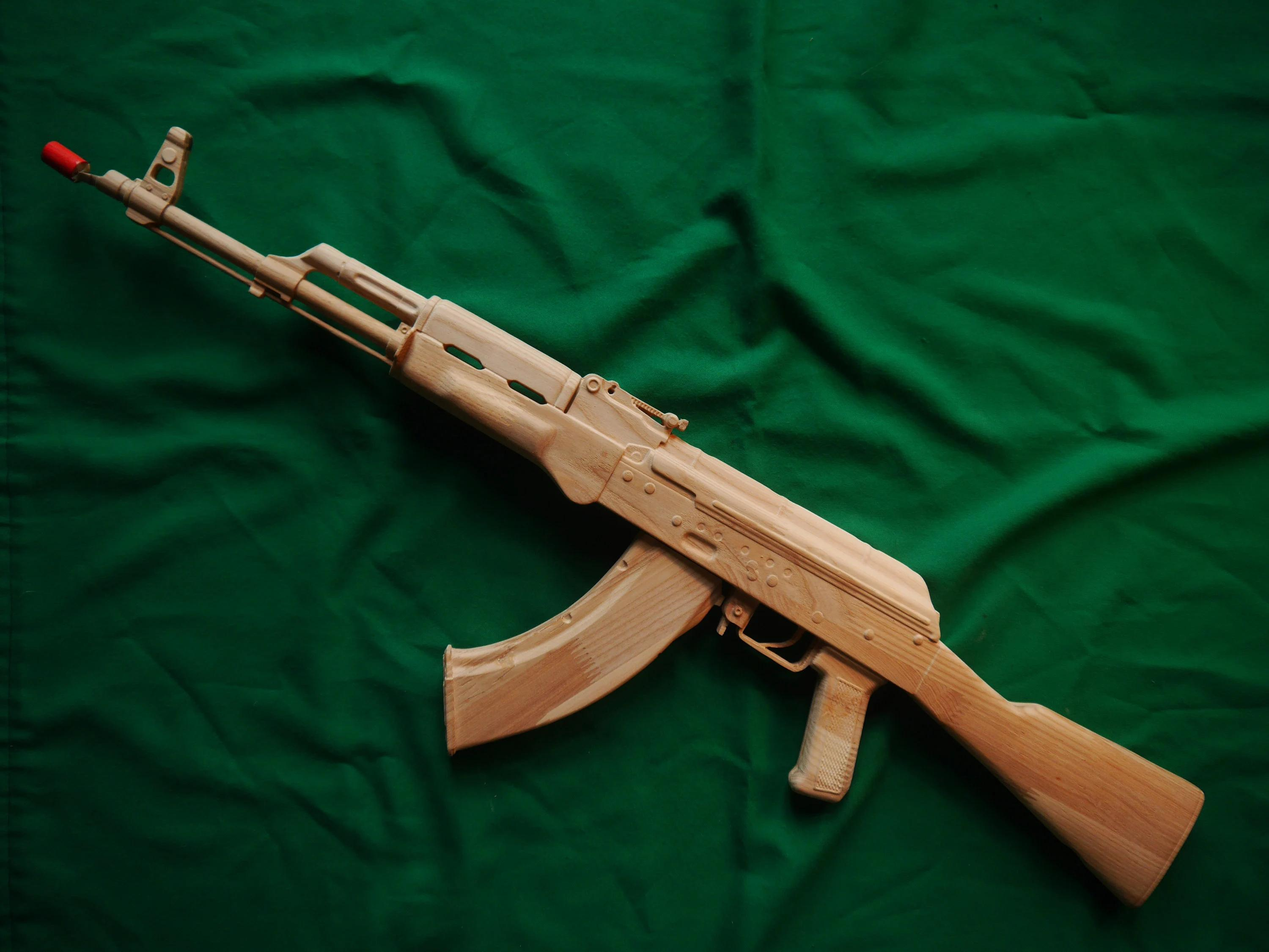larga: (43, 125, 1211, 910)
